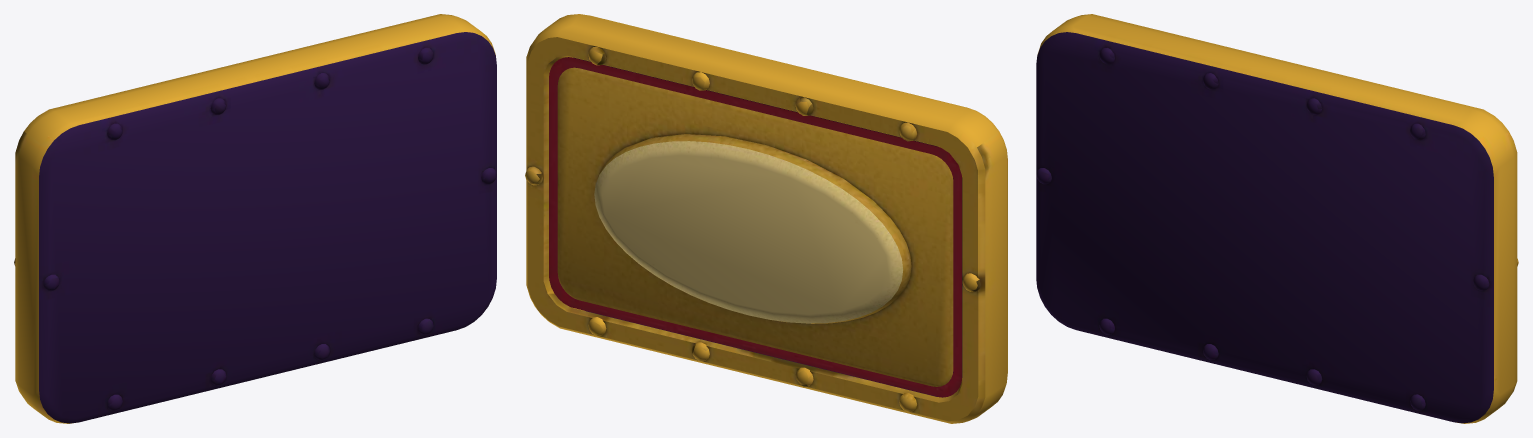
The picture shows the model from 3 angles, left to right: view 1: azimuth 30°, elevation 25°; view 2: azimuth 150°, elevation 25°; view 3: azimuth 330°, elevation 25°; orthographic projection.
Parts seen in each view (by area): view 1: Dark_violet_iron_reverse, Polished_warm_brass; view 2: Polished_warm_brass, Bright_blank_gold_panel, Crimson_glossy_enamel, Dark_violet_iron_reverse; view 3: Dark_violet_iron_reverse, Polished_warm_brass.
Part boxes in pixels (bbox=[...]): Dark_violet_iron_reverse: bbox=[39, 32, 496, 423]; Polished_warm_brass: bbox=[14, 14, 495, 423]; Polished_warm_brass: bbox=[525, 14, 1007, 423]; Bright_blank_gold_panel: bbox=[594, 141, 902, 323]; Crimson_glossy_enamel: bbox=[549, 57, 961, 397]; Dark_violet_iron_reverse: bbox=[561, 57, 962, 397]; Dark_violet_iron_reverse: bbox=[1036, 32, 1493, 423]; Polished_warm_brass: bbox=[1037, 14, 1518, 423].
Size of the model in its own units: 0.9384 by 0.5875 by 0.135.
4 materials, 4 textured.
